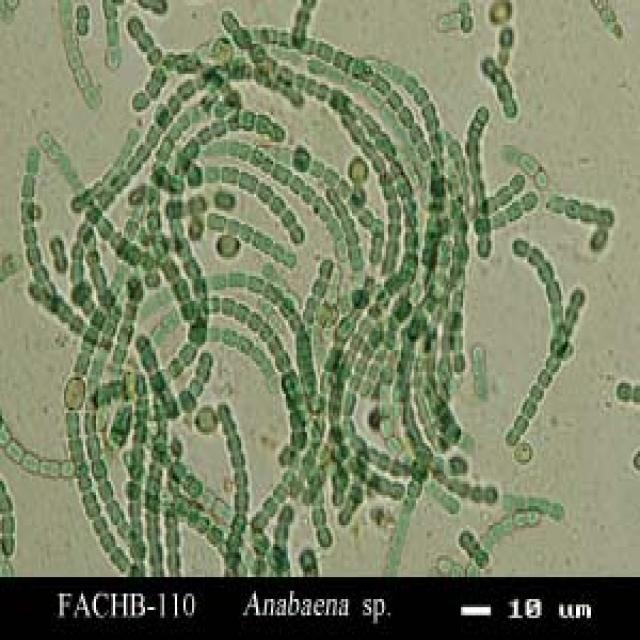Blue Green Algae: (38, 451, 62, 487), (81, 432, 105, 465), (141, 71, 164, 104), (158, 254, 183, 284), (360, 106, 382, 140), (324, 342, 346, 375), (130, 85, 154, 115), (21, 148, 45, 178), (218, 5, 243, 33), (390, 292, 412, 322), (211, 495, 233, 525), (102, 14, 124, 44), (267, 159, 294, 183), (333, 46, 352, 80), (277, 205, 301, 230), (203, 211, 228, 235), (420, 101, 438, 134), (520, 186, 542, 213), (19, 197, 41, 224), (314, 36, 332, 68), (23, 241, 47, 265), (72, 63, 91, 93), (177, 339, 196, 369), (4, 435, 23, 465), (459, 522, 478, 552), (124, 14, 145, 41), (535, 257, 557, 282), (132, 142, 154, 167), (24, 448, 40, 482), (292, 170, 310, 200), (301, 298, 320, 326), (469, 347, 488, 375), (476, 232, 495, 260), (224, 429, 247, 452), (87, 263, 109, 287), (17, 175, 41, 197), (162, 547, 186, 569), (62, 410, 83, 435), (578, 200, 597, 227), (237, 104, 256, 131), (273, 479, 292, 506), (384, 88, 405, 112), (136, 27, 156, 52), (614, 377, 634, 402), (226, 268, 248, 290), (2, 511, 19, 539), (369, 71, 388, 96), (220, 161, 239, 186), (254, 227, 273, 252), (378, 134, 397, 159), (173, 276, 194, 298), (60, 46, 81, 68), (239, 167, 256, 194), (188, 375, 205, 402), (493, 181, 512, 205), (232, 465, 250, 490), (356, 205, 374, 230), (314, 522, 332, 547), (250, 273, 266, 301), (516, 153, 536, 175), (506, 197, 522, 224), (522, 241, 540, 265), (544, 276, 561, 301), (546, 350, 563, 375), (514, 410, 531, 435), (386, 216, 403, 241), (508, 172, 527, 194), (113, 322, 132, 344), (109, 342, 128, 364), (90, 459, 108, 482), (239, 219, 256, 243), (96, 528, 113, 552), (96, 219, 113, 243), (352, 353, 369, 377), (105, 44, 122, 68), (384, 178, 399, 205), (536, 366, 554, 388), (122, 301, 140, 323), (376, 394, 394, 416), (262, 495, 280, 517), (504, 96, 520, 120), (342, 386, 358, 410), (290, 224, 305, 249), (224, 216, 239, 241), (529, 380, 546, 402), (318, 257, 335, 279), (220, 326, 237, 348), (141, 350, 158, 372), (111, 170, 128, 192), (252, 512, 269, 534), (237, 140, 252, 164), (337, 178, 352, 202), (232, 492, 250, 512), (493, 79, 514, 96), (234, 301, 250, 323), (310, 276, 326, 298), (250, 344, 266, 366), (358, 314, 374, 336), (312, 506, 328, 528), (248, 306, 262, 331), (378, 413, 392, 438), (520, 394, 538, 413), (209, 118, 228, 136), (266, 331, 284, 350), (184, 476, 202, 495), (22, 224, 40, 243), (164, 528, 182, 547), (60, 28, 79, 46), (386, 200, 401, 222), (324, 164, 337, 189), (397, 106, 414, 125), (273, 350, 290, 369), (226, 451, 245, 468), (30, 260, 47, 279), (525, 506, 542, 525), (510, 509, 527, 528), (168, 462, 184, 482), (250, 148, 264, 170), (220, 296, 234, 318), (182, 298, 196, 320), (292, 68, 303, 96), (316, 80, 330, 102), (309, 156, 322, 178), (237, 331, 250, 353), (305, 76, 318, 98), (386, 435, 399, 457), (412, 82, 426, 101), (94, 191, 109, 208), (81, 487, 96, 503), (92, 512, 105, 530), (256, 323, 269, 339)
